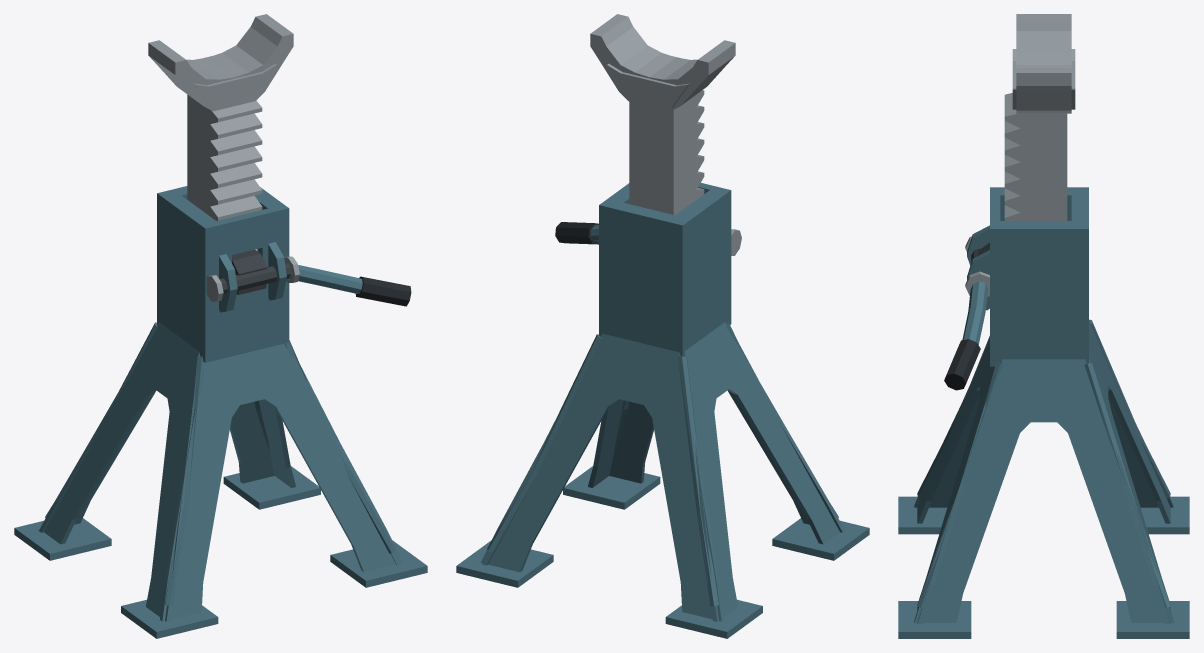
3 views of the same model, side by side, from view 1: azimuth 30°, elevation 25°; view 2: azimuth 150°, elevation 25°; view 3: azimuth 270°, elevation 25° (orthographic). The views are drawn at different scales.
Parts seen in each view (by area): view 1: Splayed_frame_Y-1, Ratchet_sleeve, Splayed_frame_X-1, Forged_toothed_post, Concave_saddle, Splayed_frame_Y1, Foot_plate_-1_1, Foot_plate_1_1, Splayed_frame_X1, Foot_plate_1_-1, Foot_plate_-1_-1, Saddle_gusset_-1 (+8 smaller); view 2: Splayed_frame_Y1, Ratchet_sleeve, Splayed_frame_X-1, Forged_toothed_post, Concave_saddle, Splayed_frame_Y-1, Foot_plate_-1_-1, Foot_plate_1_-1, Corner_fold_-1_1, Splayed_frame_X1, Foot_plate_1_1, Foot_plate_-1_1 (+3 smaller); view 3: Splayed_frame_X1, Ratchet_sleeve, Forged_toothed_post, Concave_saddle, Splayed_frame_Y1, Splayed_frame_Y-1, Splayed_frame_X-1, Foot_plate_1_-1, Foot_plate_1_1, Foot_plate_-1_-1, Foot_plate_-1_1, Corner_fold_1_1 (+7 smaller).
Boxes of the visible parts, x1=… form: Splayed_frame_Y-1: x1=160, y1=343, x2=403, y2=621; Ratchet_sleeve: x1=157, y1=186, x2=289, y2=362; Splayed_frame_X-1: x1=44, y1=322, x2=199, y2=621; Forged_toothed_post: x1=187, y1=94, x2=262, y2=250; Concave_saddle: x1=148, y1=14, x2=293, y2=111; Splayed_frame_Y1: x1=39, y1=390, x2=274, y2=532; Foot_plate_-1_1: x1=14, y1=518, x2=111, y2=560; Foot_plate_1_1: x1=223, y1=466, x2=320, y2=509; Splayed_frame_X1: x1=260, y1=364, x2=401, y2=565; Foot_plate_1_-1: x1=330, y1=540, x2=427, y2=587; Foot_plate_-1_-1: x1=121, y1=599, x2=218, y2=638; Saddle_gusset_-1: x1=194, y1=64, x2=276, y2=108; Splayed_frame_Y1: x1=480, y1=333, x2=723, y2=621; Ratchet_sleeve: x1=599, y1=183, x2=731, y2=356; Splayed_frame_X-1: x1=684, y1=322, x2=839, y2=621; Forged_toothed_post: x1=629, y1=90, x2=704, y2=215; Concave_saddle: x1=590, y1=14, x2=735, y2=111; Splayed_frame_Y-1: x1=609, y1=390, x2=844, y2=532; Foot_plate_-1_-1: x1=772, y1=518, x2=869, y2=560; Foot_plate_1_-1: x1=563, y1=466, x2=660, y2=509; Corner_fold_-1_1: x1=678, y1=356, x2=718, y2=606; Splayed_frame_X1: x1=482, y1=399, x2=623, y2=565; Foot_plate_1_1: x1=456, y1=540, x2=553, y2=587; Foot_plate_-1_1: x1=665, y1=599, x2=762, y2=638; Splayed_frame_X1: x1=914, y1=359, x2=1173, y2=622; Ratchet_sleeve: x1=990, y1=187, x2=1088, y2=366; Forged_toothed_post: x1=1004, y1=93, x2=1067, y2=220; Concave_saddle: x1=1016, y1=14, x2=1071, y2=113; Splayed_frame_Y1: x1=1089, y1=320, x2=1170, y2=624; Splayed_frame_Y-1: x1=917, y1=341, x2=994, y2=624; Splayed_frame_X-1: x1=914, y1=394, x2=1173, y2=507; Foot_plate_1_-1: x1=898, y1=601, x2=971, y2=638; Foot_plate_1_1: x1=1116, y1=601, x2=1189, y2=638; Foot_plate_-1_-1: x1=898, y1=496, x2=946, y2=534; Foot_plate_-1_1: x1=1141, y1=496, x2=1189, y2=534; Corner_fold_1_1: x1=1084, y1=362, x2=1170, y2=607.
Bounding box in the file's own units: 0.2293 × 0.4 × 0.2.
